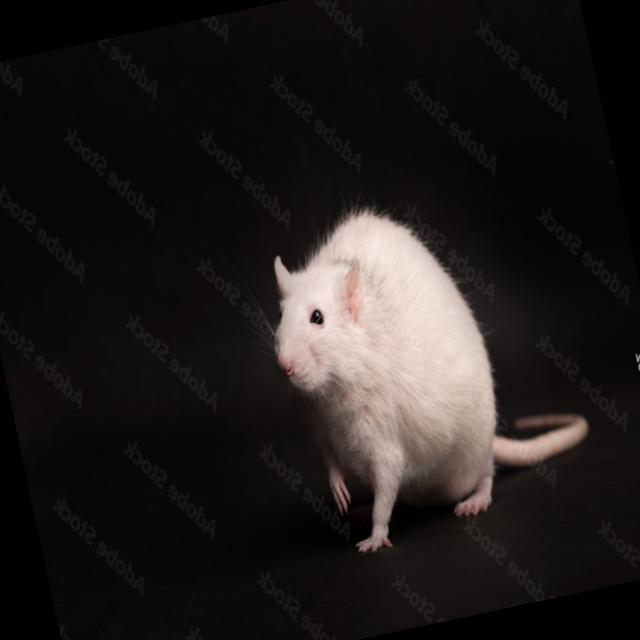rodents: (241, 176, 534, 568)
